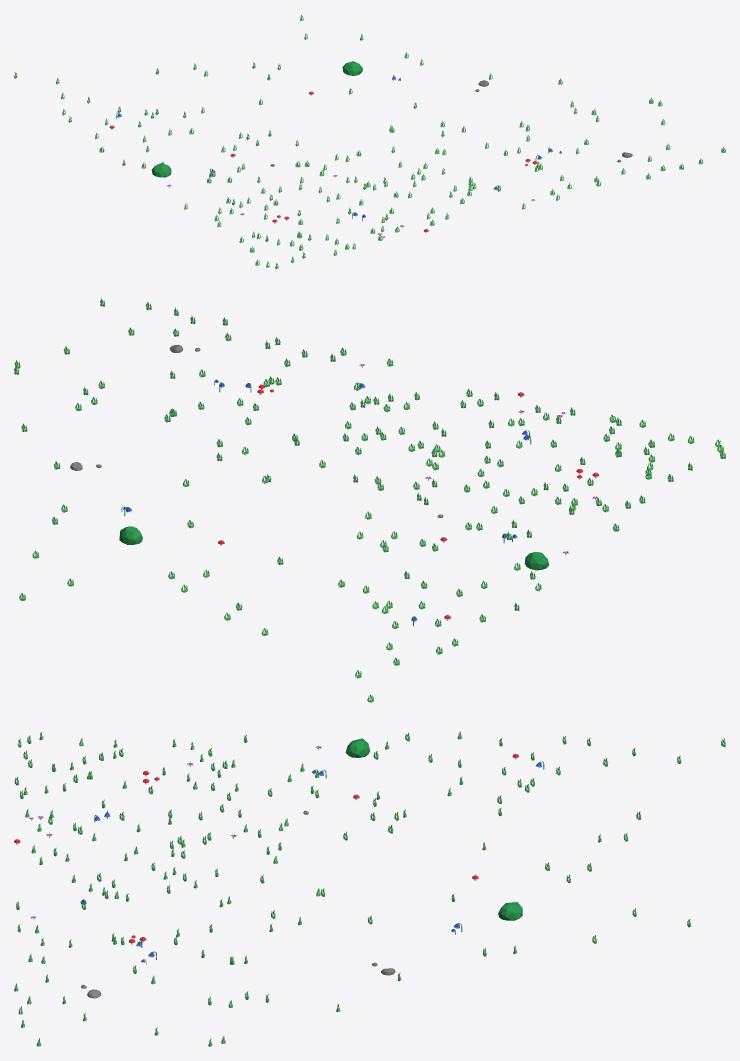
Rendered from UPDATED Forest Details 1.fbx.
3 views of the same model, one above another, from view 1: azimuth 30°, elevation 25°; view 2: azimuth 150°, elevation 25°; view 3: azimuth 270°, elevation 25° (orthographic). The views are drawn at different scales.
Parts seen in each view (by area): view 1: Grass, Bushes; view 2: Grass, Bushes; view 3: Grass, Bushes.
Boxes of the visible parts, x1=… form: Grass: x1=14, y1=14, x2=725, y2=268; Bushes: x1=151, y1=61, x2=362, y2=177; Grass: x1=14, y1=298, x2=725, y2=702; Bushes: x1=119, y1=526, x2=548, y2=570; Grass: x1=14, y1=731, x2=725, y2=1046; Bushes: x1=345, y1=738, x2=522, y2=920.
Size of the model in its own units: 2342 by 51.97 by 2274.
